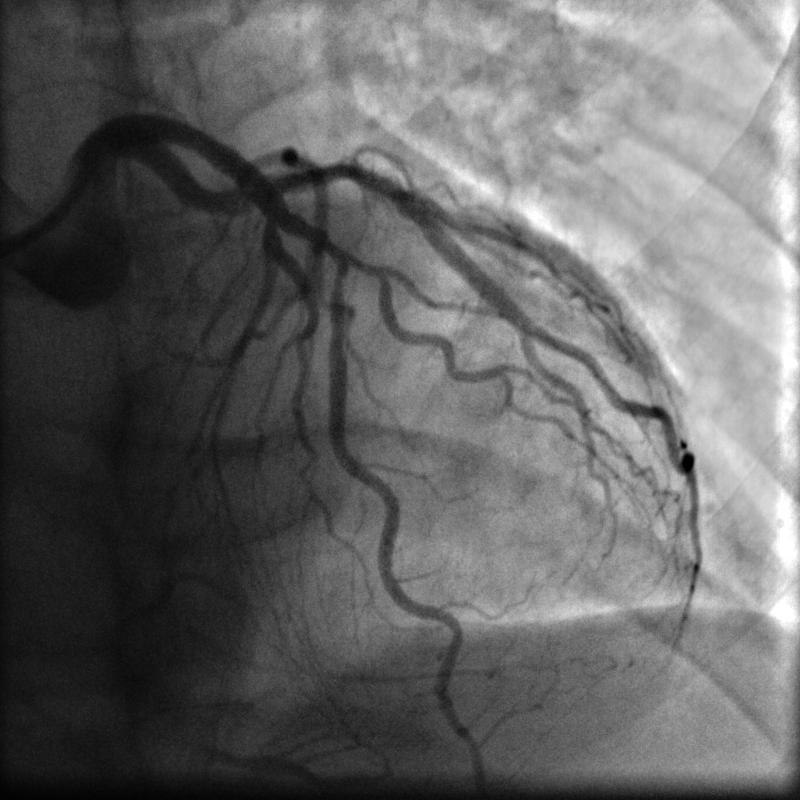Stenosis: (325, 261, 350, 316)
